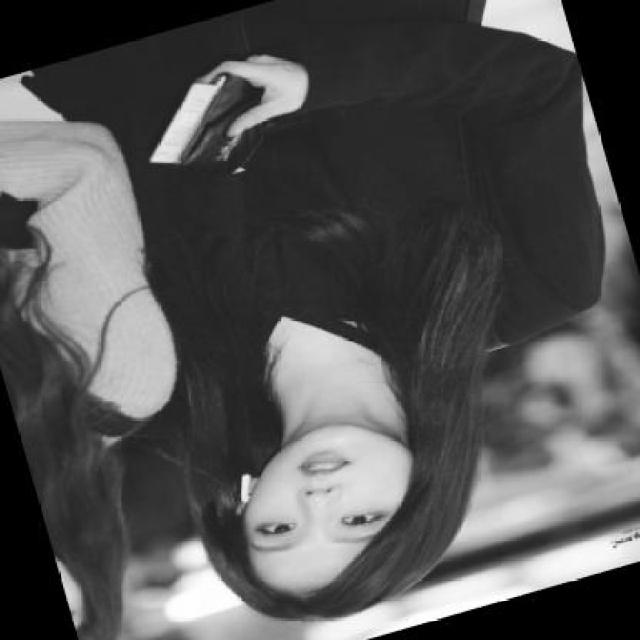earphone: (227, 462, 267, 528)
